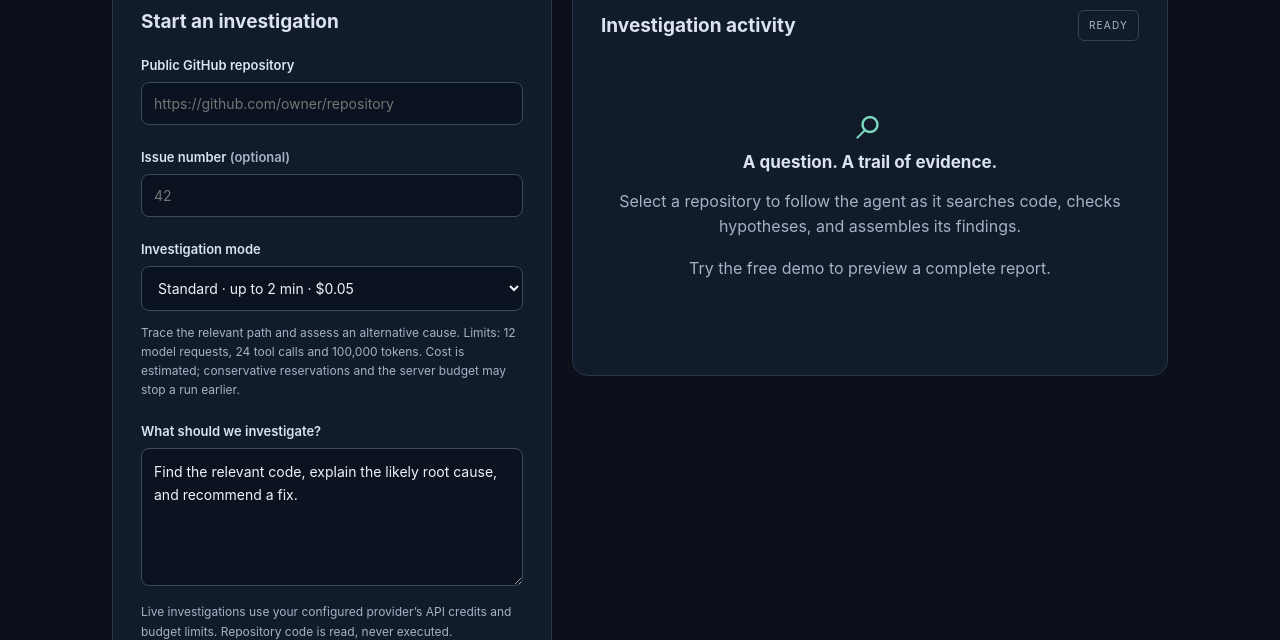
Scenario: shows mode limits and preserves the selected mode across a demo visit without submitting
The width and height of the screenshot is (1280, 640).
(page scrolled)
Select "Deep · up to 5 min · $0.15" in the dropdown labelled "Investigation mode": (332, 288) 141,266 -> 523,311
(page scrolled)
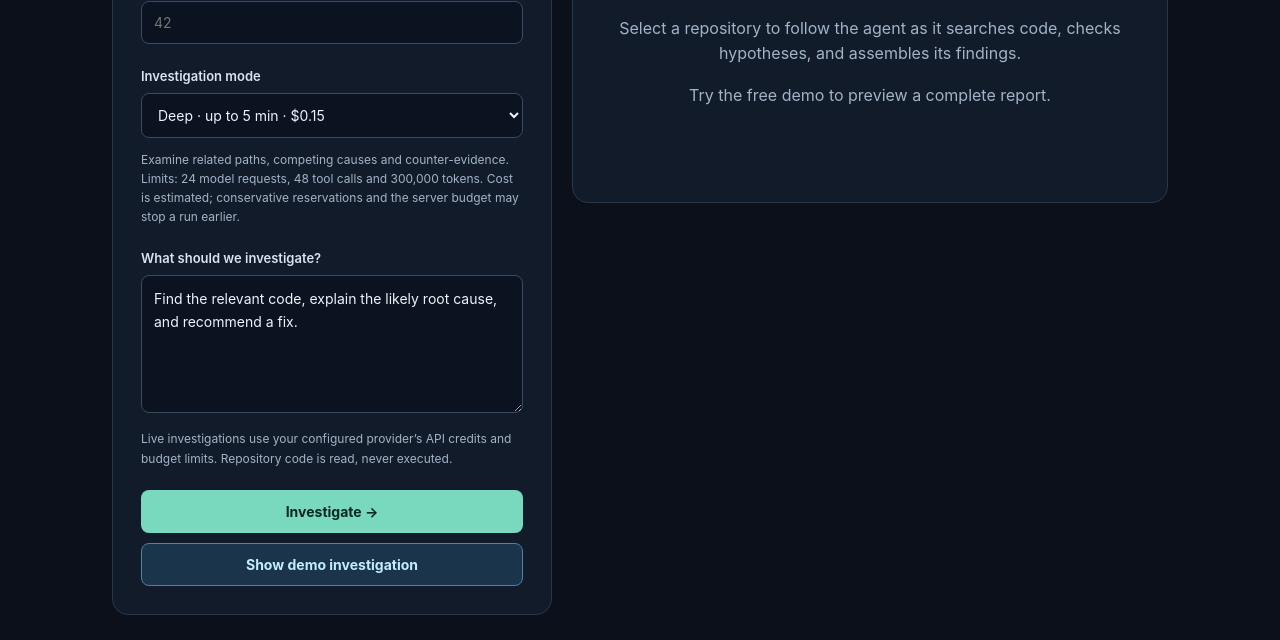
Click the button "Show demo investigation": (332, 564) 141,543 -> 523,586
(page scrolled)
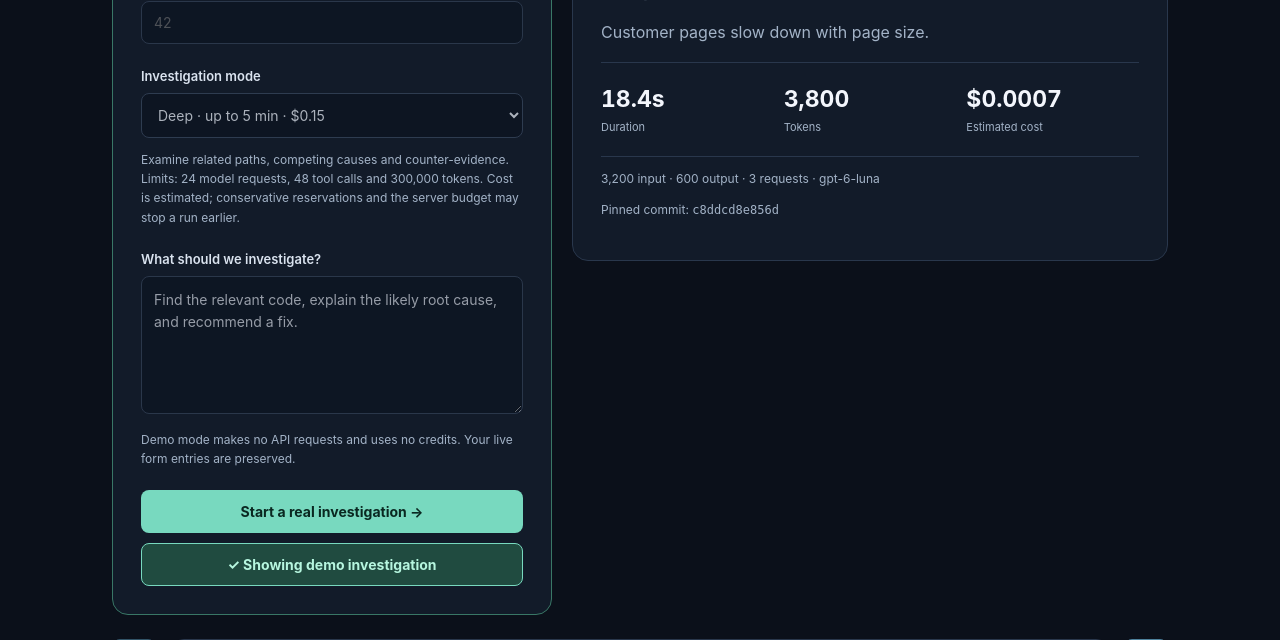
Check: the dropdown labelled "Investigation mode" is disabled, box 141,93 -> 523,138
Click the button "Start a real investigation →": (332, 512) 141,490 -> 523,533
(page scrolled)
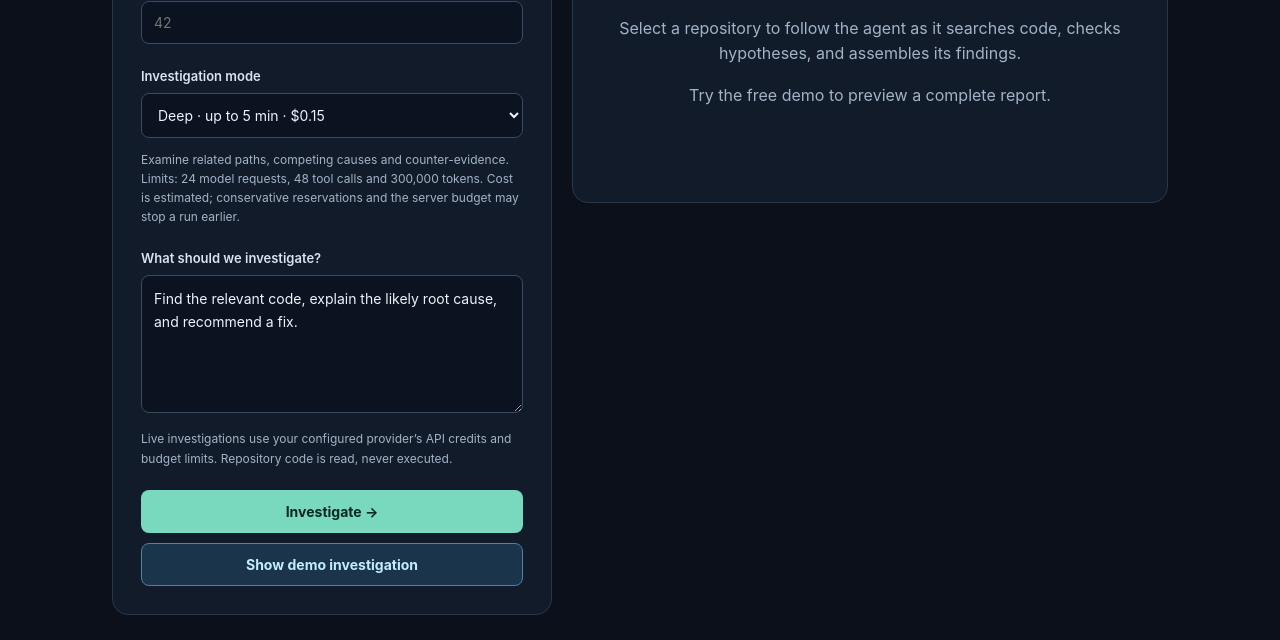
Check: the dropdown labelled "Investigation mode" is enabled, box 141,93 -> 523,138
